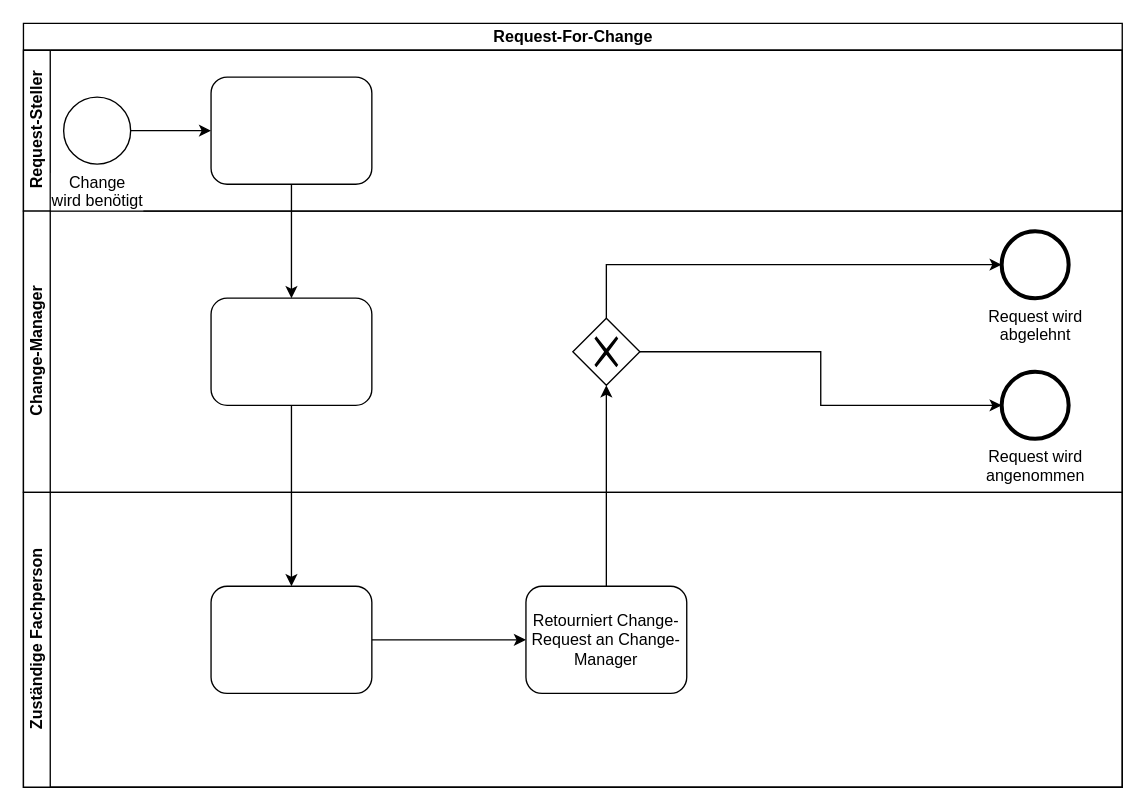
The diagram is 1146 pixels wide and 811 high, and some of its shapes have lost their labels. Here are the shapes that lost their labels. From the top down, the centre of each, then its label:
At (291,130): "Füllt Change-Request aus und reicht ihn ein".
At (291,351): "Erhält Change-Request und leitet es an die zuständige Fachperson weiter".
At (606,351): "Entscheidet ob der Request stattgegeben wird".
At (291,639): "Schätz Aufwand und Realisierbarkeit".
